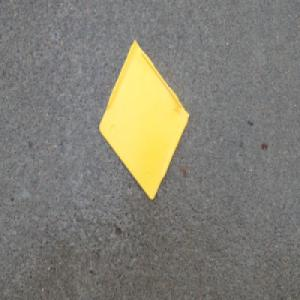PlasticPart: (98, 38, 191, 202)
